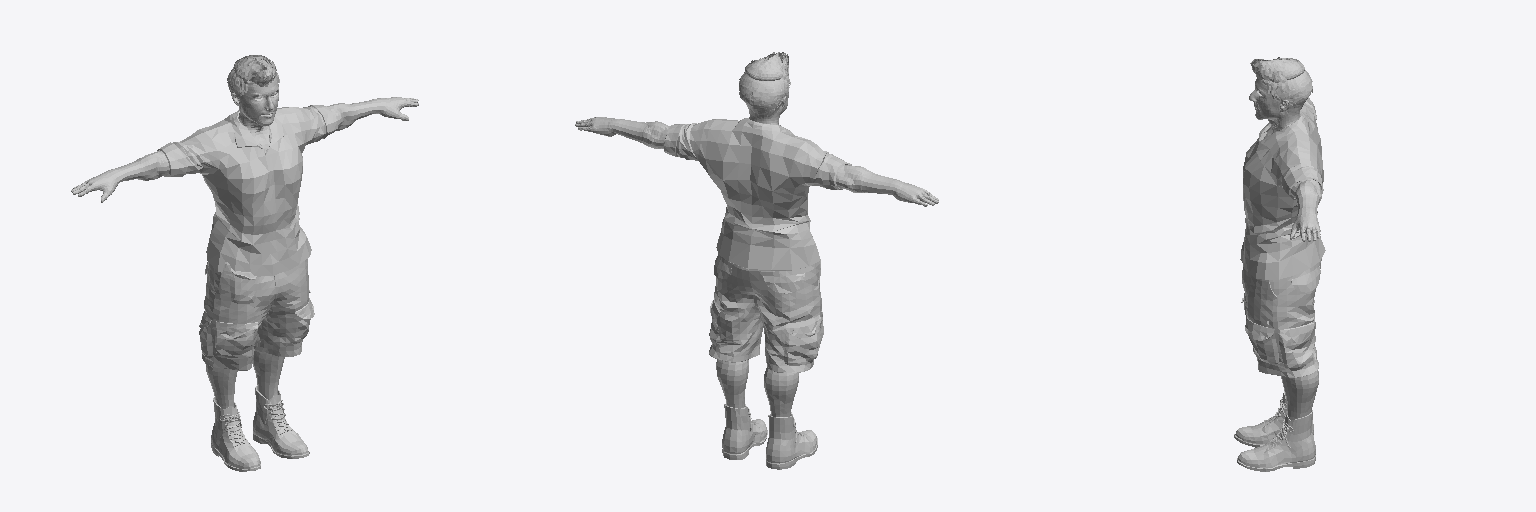
File: Ares Son.obj
3 renders of one model, left to right at view 1: azimuth 30°, elevation 25°; view 2: azimuth 150°, elevation 25°; view 3: azimuth 270°, elevation 25°, orthographic.
Parts seen in each view (by area): view 1: Tops, Bottoms, Body, Shoes, Hair; view 2: Tops, Bottoms, Body, Shoes, Hair; view 3: Tops, Bottoms, Body, Shoes, Hair.
Part boxes in pixels (x1,y1,x2,y2): Tops: (157, 105, 337, 277); Bottoms: (199, 259, 314, 370); Body: (71, 58, 418, 408); Shoes: (211, 385, 309, 471); Hair: (227, 55, 279, 101); Tops: (664, 118, 851, 270); Bottoms: (709, 252, 823, 372); Body: (575, 73, 938, 416); Shoes: (722, 403, 817, 469); Hair: (739, 52, 790, 117); Tops: (1240, 99, 1325, 279); Bottoms: (1241, 258, 1321, 377); Body: (1249, 72, 1321, 420); Shoes: (1234, 391, 1315, 471); Hair: (1250, 57, 1312, 110).
Bounding box in the file's own units: 145 × 154 × 32.51.